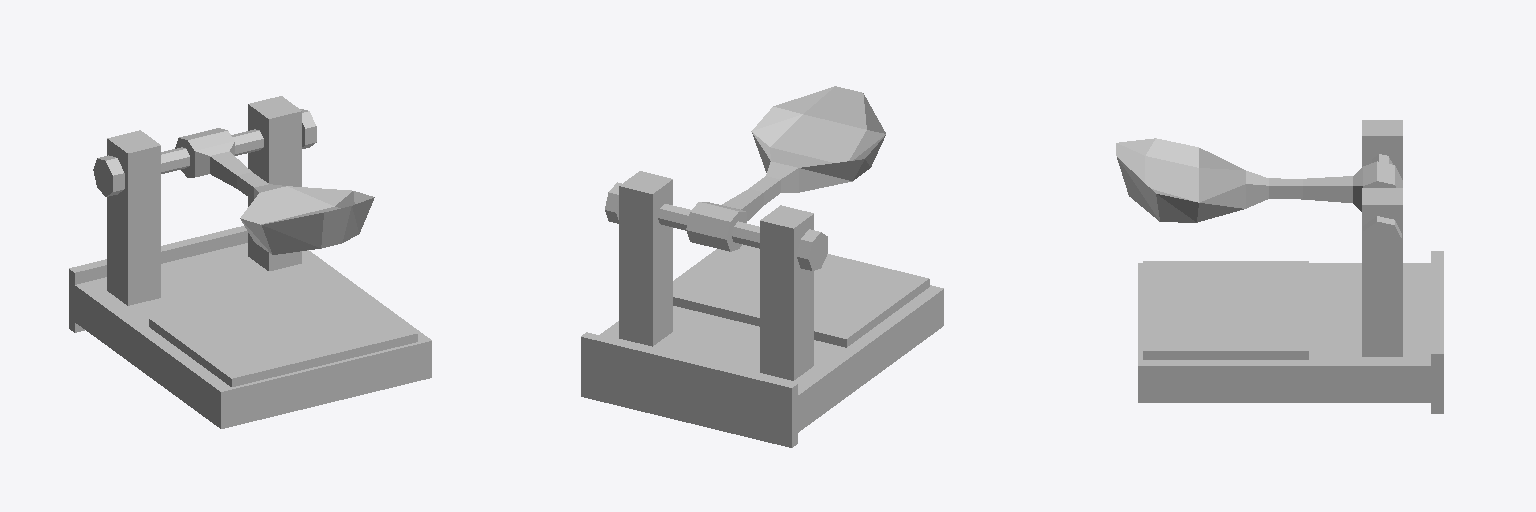
The model's file is catapult_indicator.obj.
3 renders of one model, left to right at view 1: azimuth 30°, elevation 25°; view 2: azimuth 150°, elevation 25°; view 3: azimuth 270°, elevation 25°, orthographic.
Visible parts, largest first — view 1: ForestCatapultBase_Cube.002, ForestCatapultArm_Cube.001; view 2: ForestCatapultBase_Cube.002, ForestCatapultArm_Cube.001; view 3: ForestCatapultBase_Cube.002, ForestCatapultArm_Cube.001.
Boxes of the visible parts, <box> form: ForestCatapultBase_Cube.002: <box>69,96,431,428</box>; ForestCatapultArm_Cube.001: <box>93,109,374,254</box>; ForestCatapultBase_Cube.002: <box>581,171,943,447</box>; ForestCatapultArm_Cube.001: <box>605,86,885,270</box>; ForestCatapultBase_Cube.002: <box>1138,120,1443,413</box>; ForestCatapultArm_Cube.001: <box>1116,138,1402,257</box>.
Size of the model in its own units: 4 by 3.86 by 5.36.